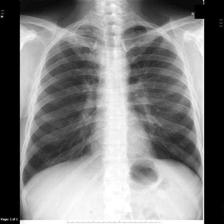tuberculosis: (19, 20, 204, 191)
